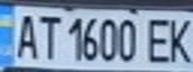0: (118, 15, 142, 64), (100, 15, 121, 63)
1: (63, 14, 84, 62)
6: (78, 14, 100, 62)
A: (9, 10, 39, 61)
E: (142, 13, 175, 64)
K: (163, 13, 193, 64)
T: (33, 11, 60, 61)
